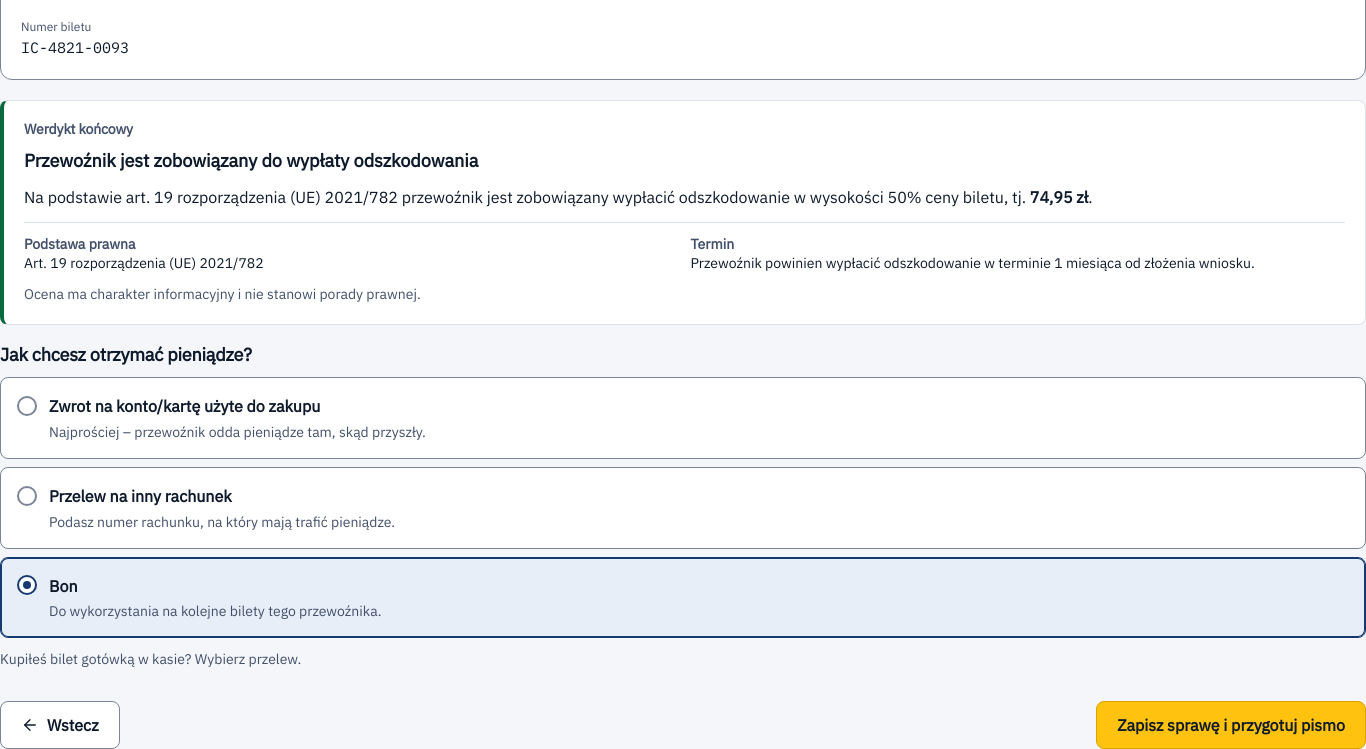
Scenario: ResultStep – save with inline sign-in › saves straight away for a signed-in user
The width and height of the screenshot is (1366, 749).
(page scrolled)
Click the button "Zapisz sprawę i przygotuj pismo": (1231, 725) x1=1096 y1=701 x2=1365 y2=748
(page scrolled)
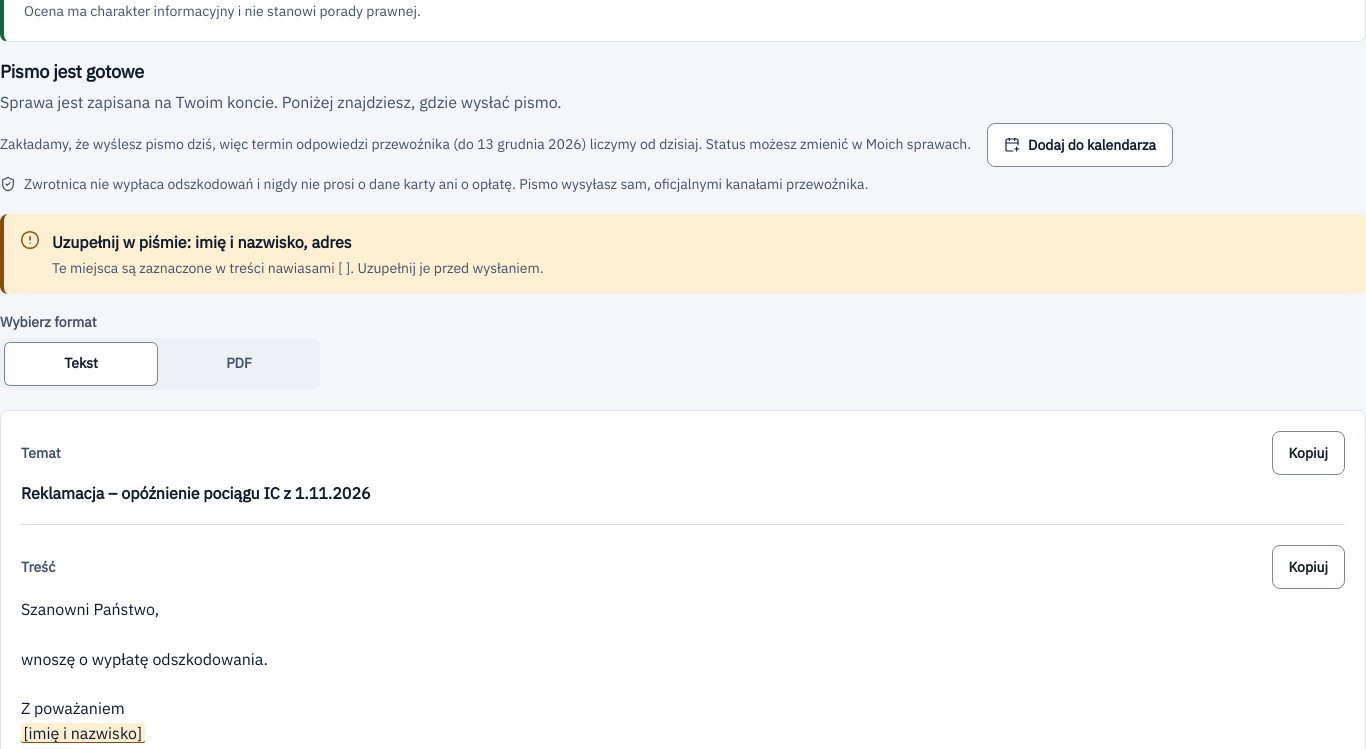
Check: the heading "Pismo jest gotowe" is shown, box x1=0 y1=60 x2=144 y2=82
Check: the text "Zakładamy, że wyślesz pismo dziś, więc termin odpowiedzi przewoźnika (do 13 grudnia 2026) liczymy od dzisiaj. Status moż" is shown, box x1=0 y1=134 x2=971 y2=156
